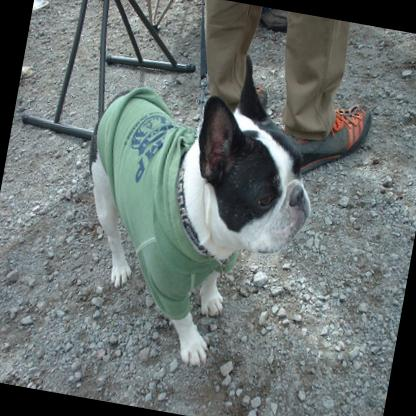French_bulldog: (50, 26, 337, 385)
